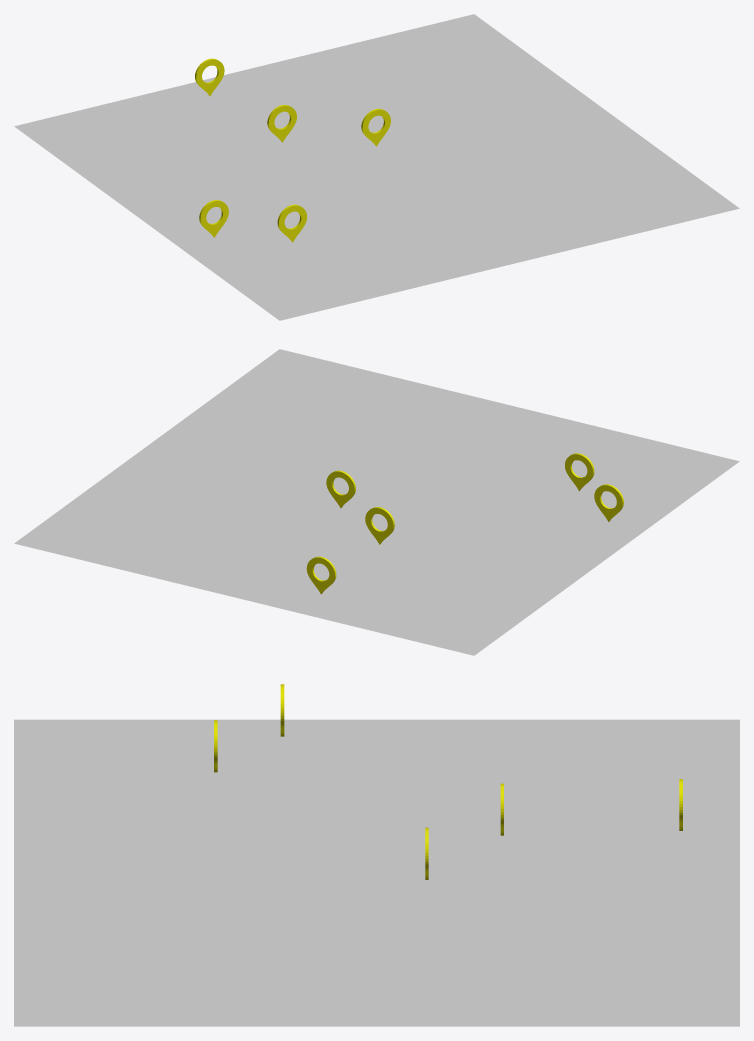
File: firstMap.dae
The picture shows the model from 3 angles, top to bottom: view 1: azimuth 30°, elevation 25°; view 2: azimuth 150°, elevation 25°; view 3: azimuth 270°, elevation 25°; orthographic projection. The views are drawn at different scales.
Visible parts, largest first — view 1: Plane, BezierCurve, BezierCurve_003, BezierCurve_002, BezierCurve_001, BezierCurve_004; view 2: Plane, BezierCurve_003, BezierCurve_002, BezierCurve_001, BezierCurve, BezierCurve_004; view 3: Plane.
Boxes of the visible parts, <box> form: Plane: <box>14,14,739,320</box>; BezierCurve: <box>361,108,390,146</box>; BezierCurve_003: <box>199,200,228,237</box>; BezierCurve_002: <box>267,105,296,142</box>; BezierCurve_001: <box>195,58,224,96</box>; BezierCurve_004: <box>277,204,307,242</box>; Plane: <box>14,349,739,655</box>; BezierCurve_003: <box>594,484,623,521</box>; BezierCurve_002: <box>365,507,394,544</box>; BezierCurve_001: <box>306,556,336,593</box>; BezierCurve: <box>326,470,355,508</box>; BezierCurve_004: <box>565,453,594,490</box>; Plane: <box>14,719,739,1026</box>.
Bounding box in the file's own units: 16 × 16 × 1.34.
